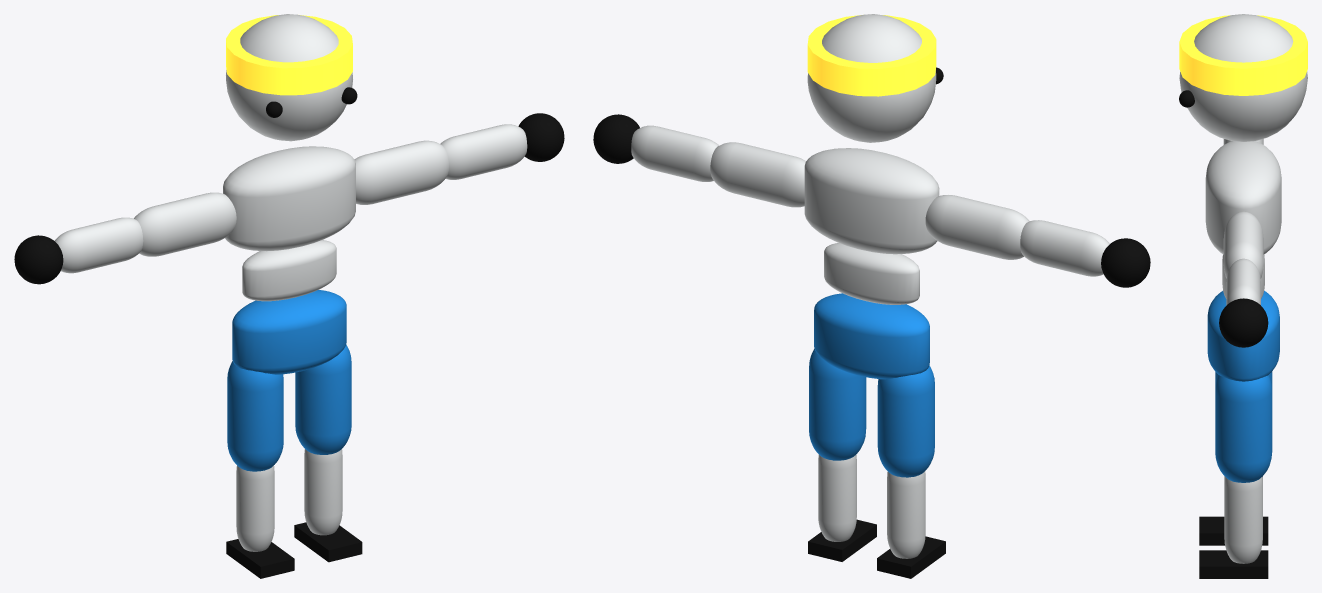
Rendered from Walker.fbx.
3 renders of one model, left to right at view 1: azimuth 30°, elevation 25°; view 2: azimuth 150°, elevation 25°; view 3: azimuth 270°, elevation 25°, orthographic.
Parts seen in each view (by area): view 1: chestsMesh, headMesh, hipsMesh, thighRMesh, headband, thighLMesh, upper_arm_RMesh, upper_arm_LMesh, spineMesh, lower_arm_RMesh, lower_arm_LMesh, shinRMesh (+5 smaller); view 2: chestsMesh, headMesh, hipsMesh, thighRMesh, headband, thighLMesh, upper_arm_RMesh, upper_arm_LMesh, spineMesh, lower_arm_RMesh, lower_arm_LMesh, shinRMesh (+5 smaller); view 3: headMesh, chestsMesh, thighLMesh, headband, hipsMesh, shinLMesh, upper_arm_LMesh, hand_LMesh, footLMesh, lower_arm_LMesh, footRMesh, spineMesh (+1 smaller).
Boxes of the visible parts, <box> form: chestsMesh: <box>223,146,355,251</box>; headMesh: <box>226,14,352,141</box>; hipsMesh: <box>232,290,346,374</box>; thighRMesh: <box>227,361,283,471</box>; headband: <box>226,15,352,95</box>; thighLMesh: <box>295,344,351,454</box>; upper_arm_RMesh: <box>134,192,236,256</box>; upper_arm_LMesh: <box>354,140,448,204</box>; spineMesh: <box>242,240,336,301</box>; lower_arm_RMesh: <box>55,217,143,273</box>; lower_arm_LMesh: <box>440,124,527,179</box>; shinRMesh: <box>236,465,274,551</box>; chestsMesh: <box>804,148,939,254</box>; headMesh: <box>807,14,936,142</box>; hipsMesh: <box>814,293,929,379</box>; thighRMesh: <box>877,365,934,477</box>; headband: <box>807,15,936,96</box>; thighLMesh: <box>809,348,866,460</box>; upper_arm_RMesh: <box>925,195,1029,259</box>; upper_arm_LMesh: <box>710,142,806,207</box>; spineMesh: <box>824,243,919,304</box>; lower_arm_RMesh: <box>1020,220,1109,276</box>; lower_arm_LMesh: <box>631,125,719,181</box>; shinRMesh: <box>887,471,925,558</box>; headMesh: <box>1179,14,1307,141</box>; chestsMesh: <box>1205,141,1281,254</box>; thighLMesh: <box>1215,375,1272,482</box>; headband: <box>1179,15,1307,95</box>; hipsMesh: <box>1207,291,1279,381</box>; shinLMesh: <box>1224,477,1262,563</box>; upper_arm_LMesh: <box>1223,211,1263,278</box>; hand_LMesh: <box>1219,298,1268,347</box>; footLMesh: <box>1199,550,1268,578</box>; lower_arm_LMesh: <box>1226,258,1260,305</box>; footRMesh: <box>1199,516,1268,545</box>; spineMesh: <box>1222,254,1264,298</box>.
Bounding box in the file's own units: 211 × 197 × 43.1.
